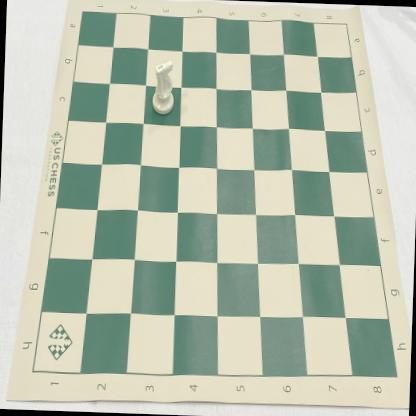knight: (152, 60, 176, 115)
